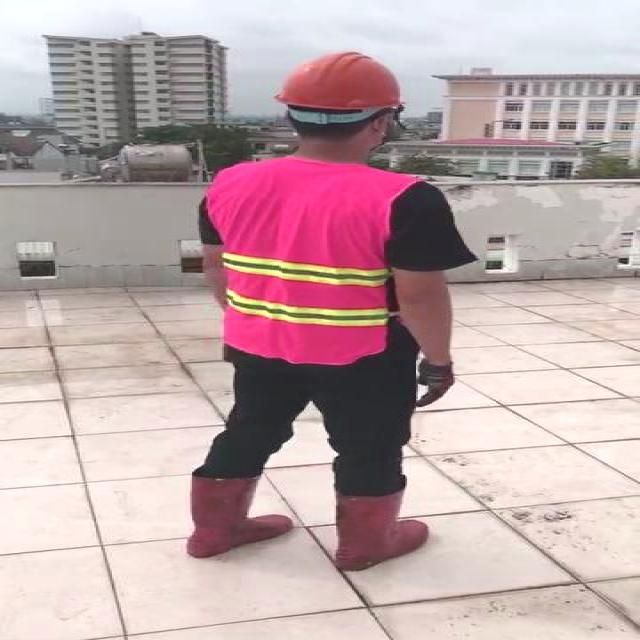boots: (183, 471, 297, 559), (331, 484, 426, 570)
hand_glove: (414, 361, 455, 408)
head_helmet: (271, 48, 406, 112)
person: (178, 41, 452, 572)
vest: (210, 158, 407, 362)
